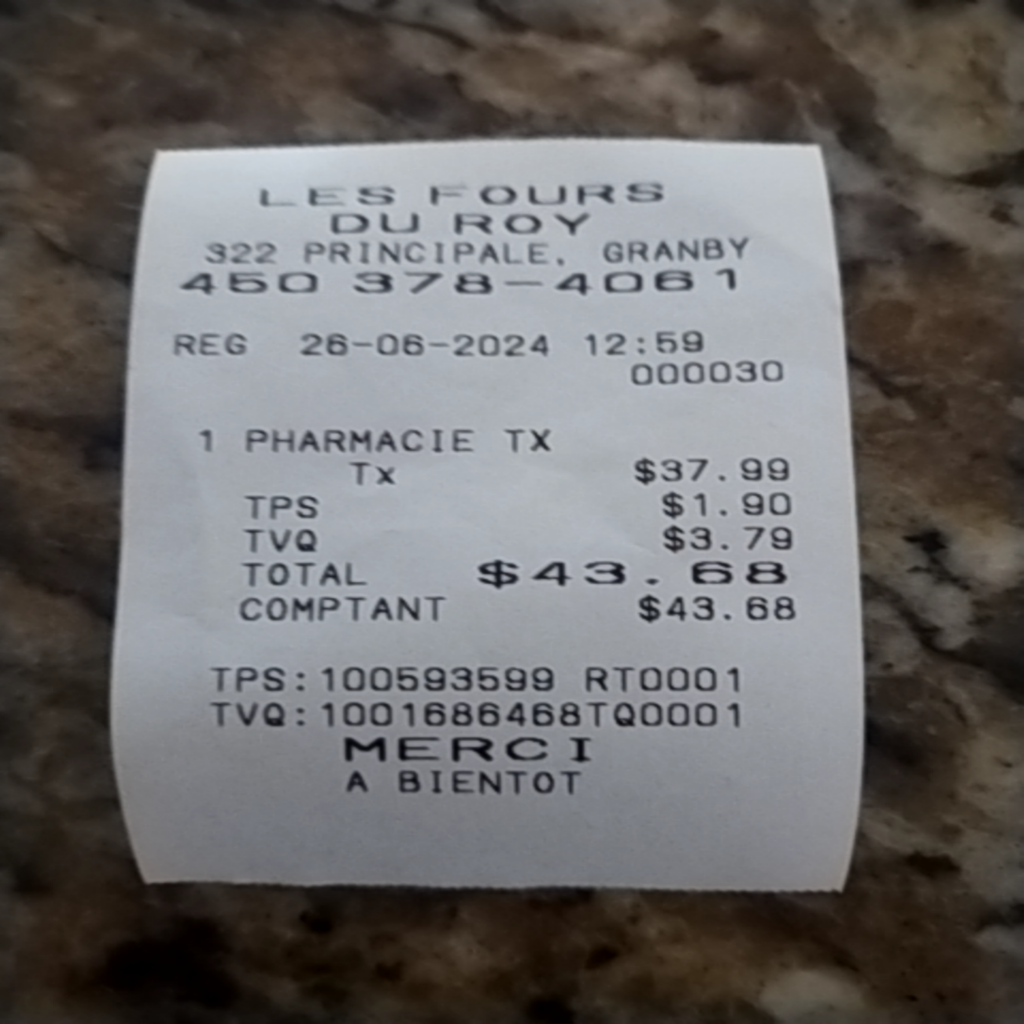recipt: (105, 141, 864, 902)
